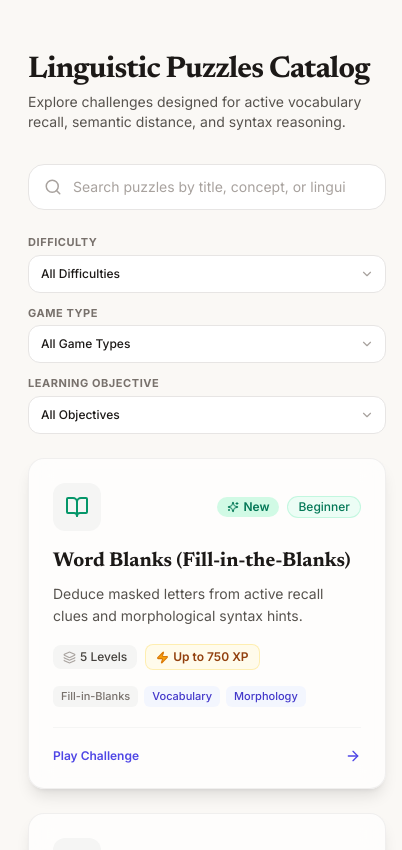
PuzzlesPage Dynamic Catalog & URL Search Parameter Synchronization › filters puzzles and syncs difficulty parameter to URL search parameters
This screenshot has width=402, height=850.
Check: the heading "Word Blanks (Fill-in-the-Blanks)" is shown, box [53,546,361,574]
# Select Beginner
Select "Beginner" in the dropdown named "Filter by difficulty" at (207, 274), box [28,254,386,292]
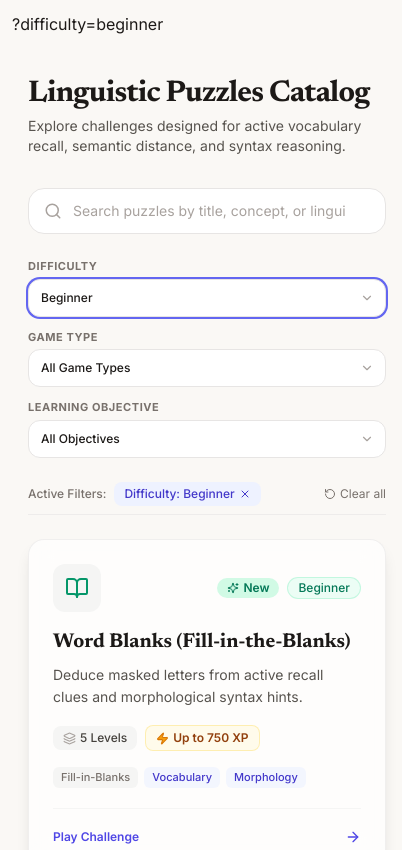
Check: the heading "Word Blanks (Fill-in-the-Blanks)" is shown, box [53,628,361,656]
Check: the text with test id "current-search-params" shows "difficulty=beginner", box [12,14,163,34]
